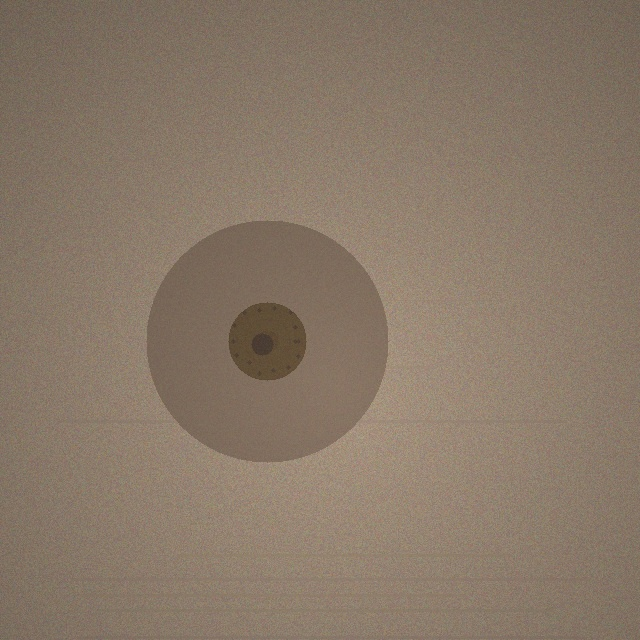cold_weld: (146, 220, 388, 462)
